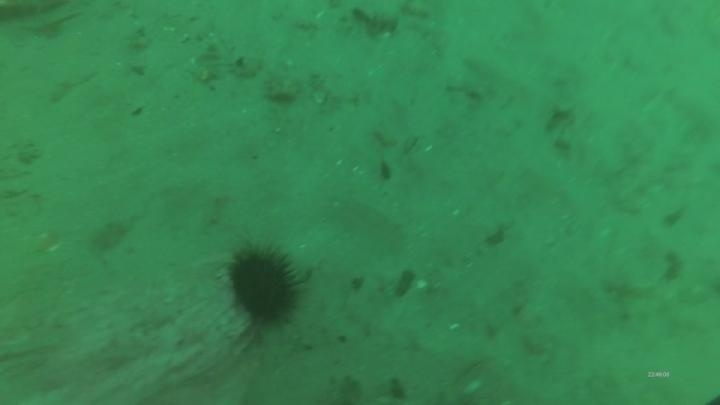echinus: (222, 240, 305, 331)
